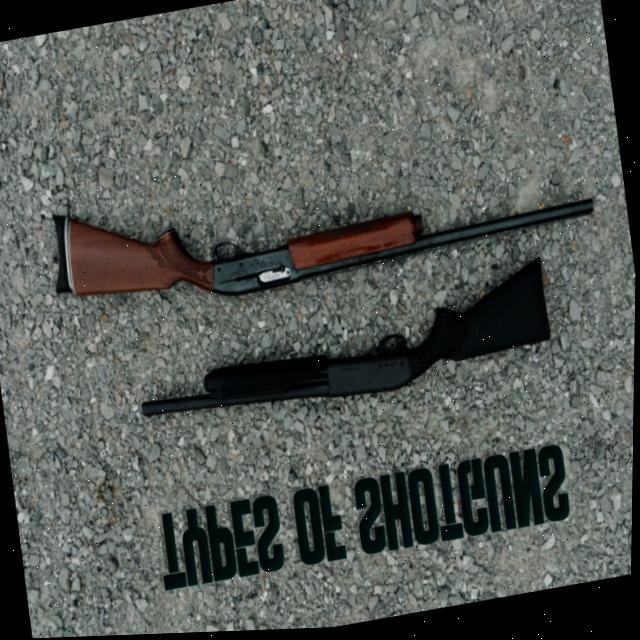firearm: (43, 122, 602, 331), (131, 259, 560, 441)
